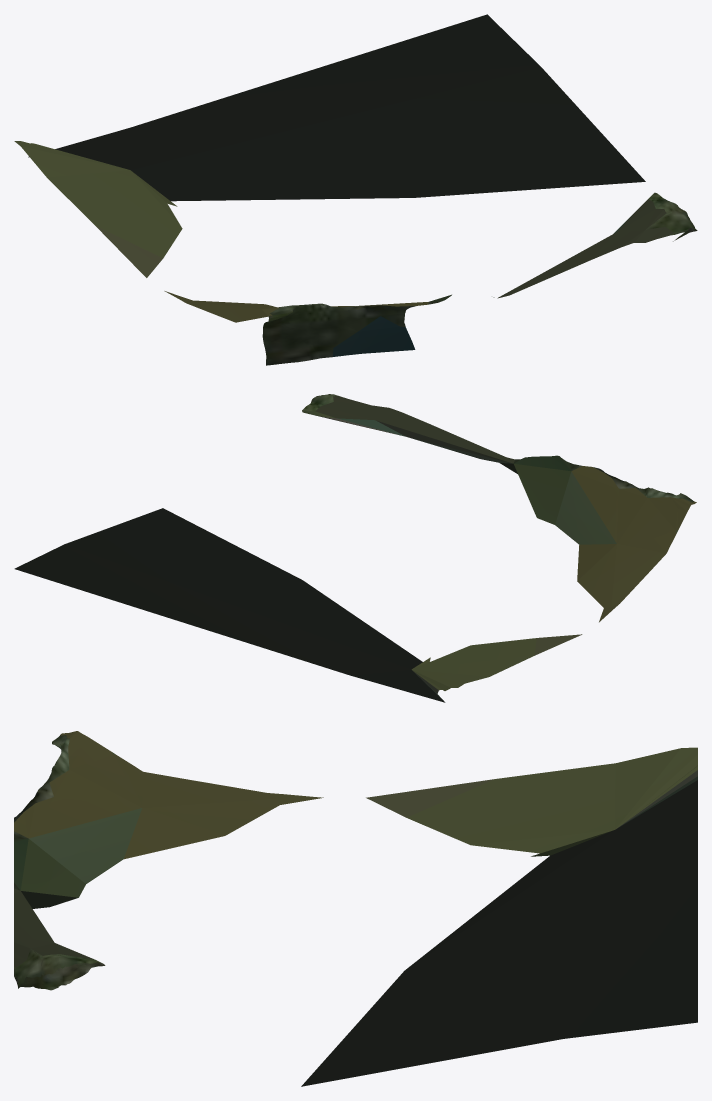
The picture shows the model from 3 angles, top to bottom: view 1: azimuth 30°, elevation 25°; view 2: azimuth 150°, elevation 25°; view 3: azimuth 270°, elevation 25°; orthographic projection. The views are drawn at different scales.
Size of the model in its own units: 1.97 by 0.2671 by 1.97.
Materials: 1 (1 with a texture image).
